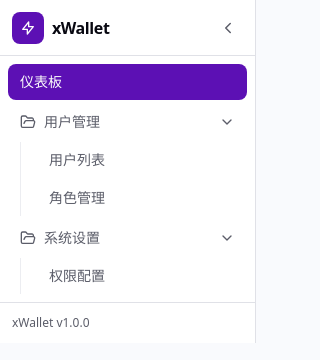
Test: Sidebar › 菜单折叠/展开功能 › 点击父菜单项应该折叠子菜单
The image size is (320, 360).
Expected: the text "用户列表" is shown, 49,150 -> 105,170
Click the button "用户管理".
click(128, 122)  # box 8,104 -> 247,140
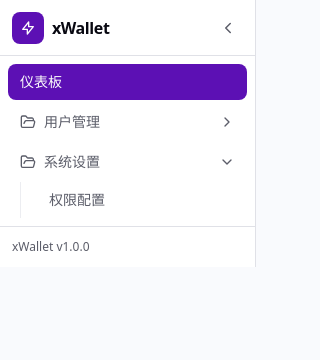
Expected: the link "用户列表" is gone
